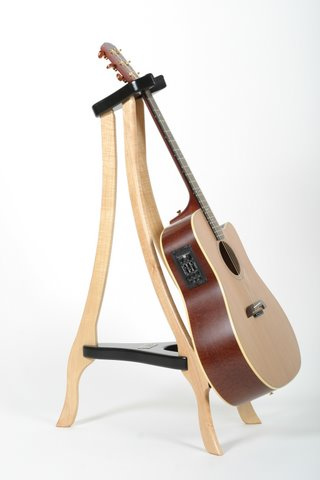guitar: (96, 38, 302, 403)
